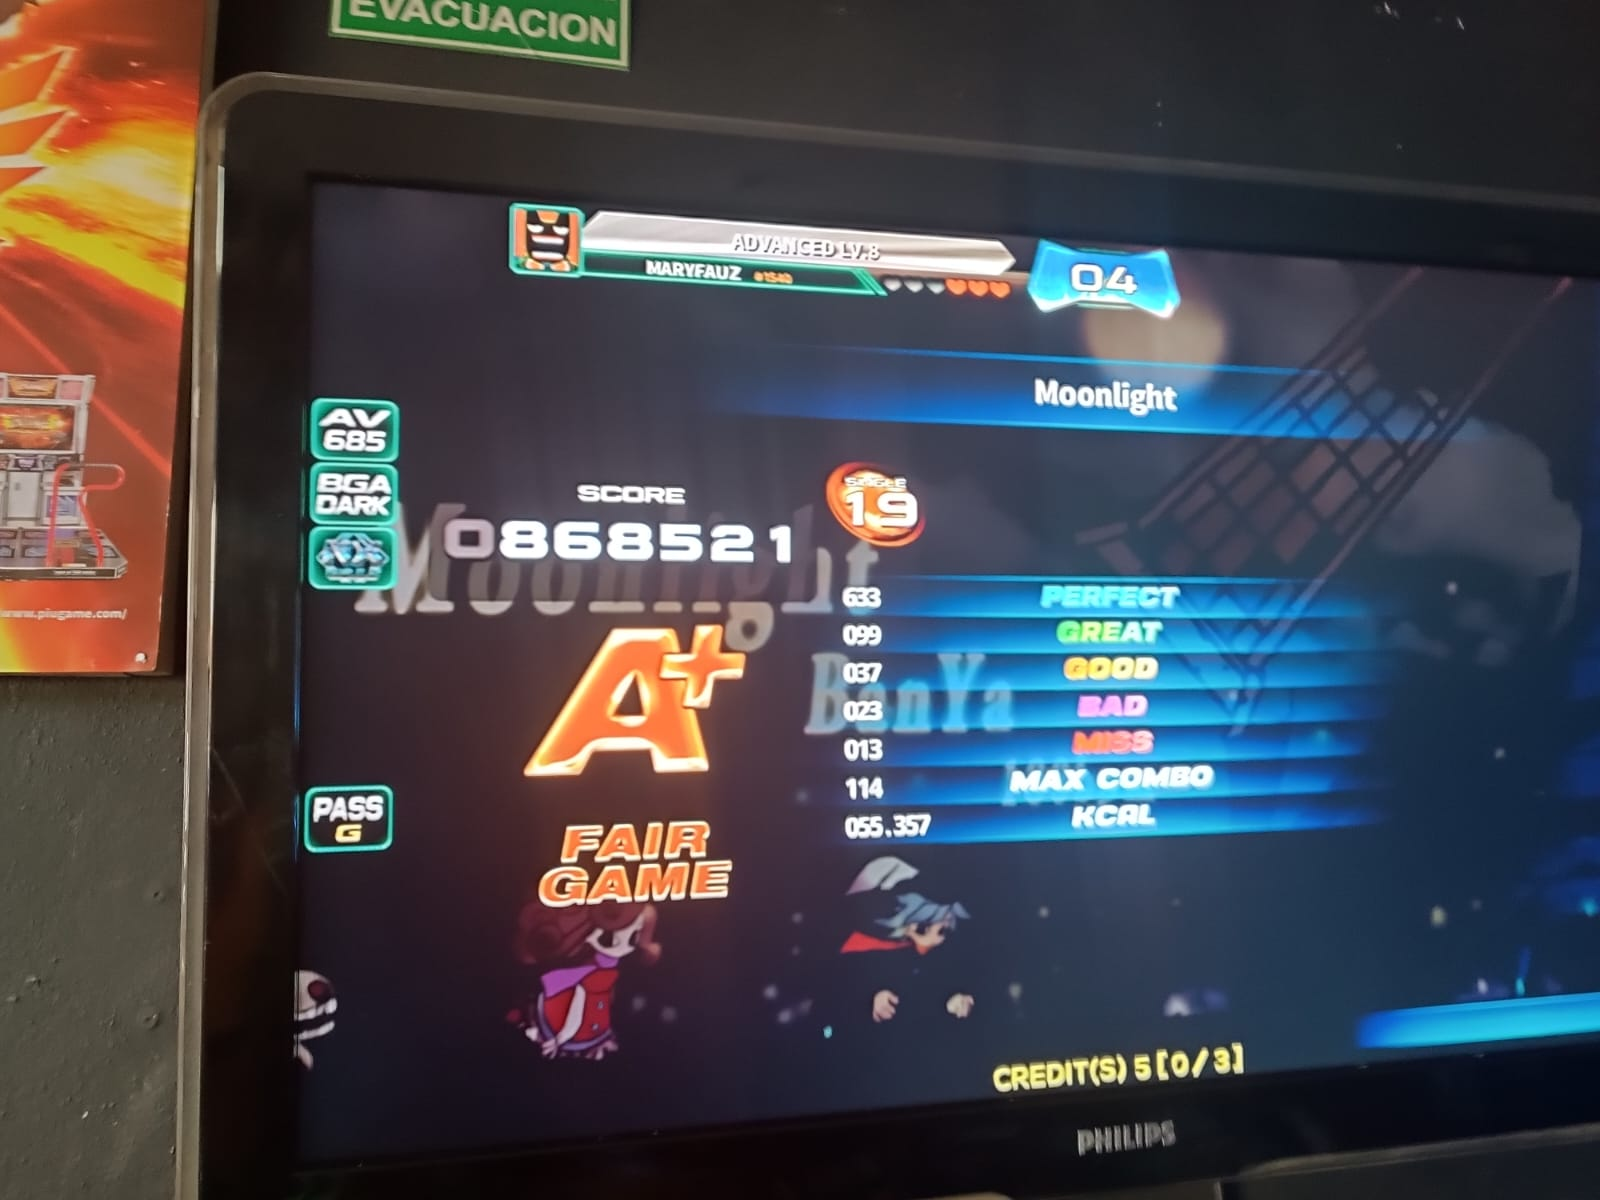difficulty: (803, 447, 975, 575)
fullscore: (165, 83, 1226, 1063)
rank: (495, 582, 763, 813)
score: (427, 476, 826, 576)
song_name: (737, 335, 1519, 451)
